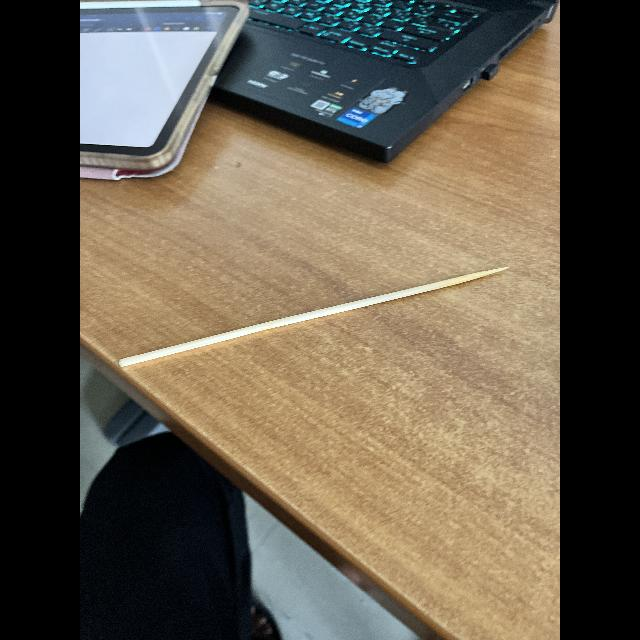stick: (110, 246, 526, 388)
